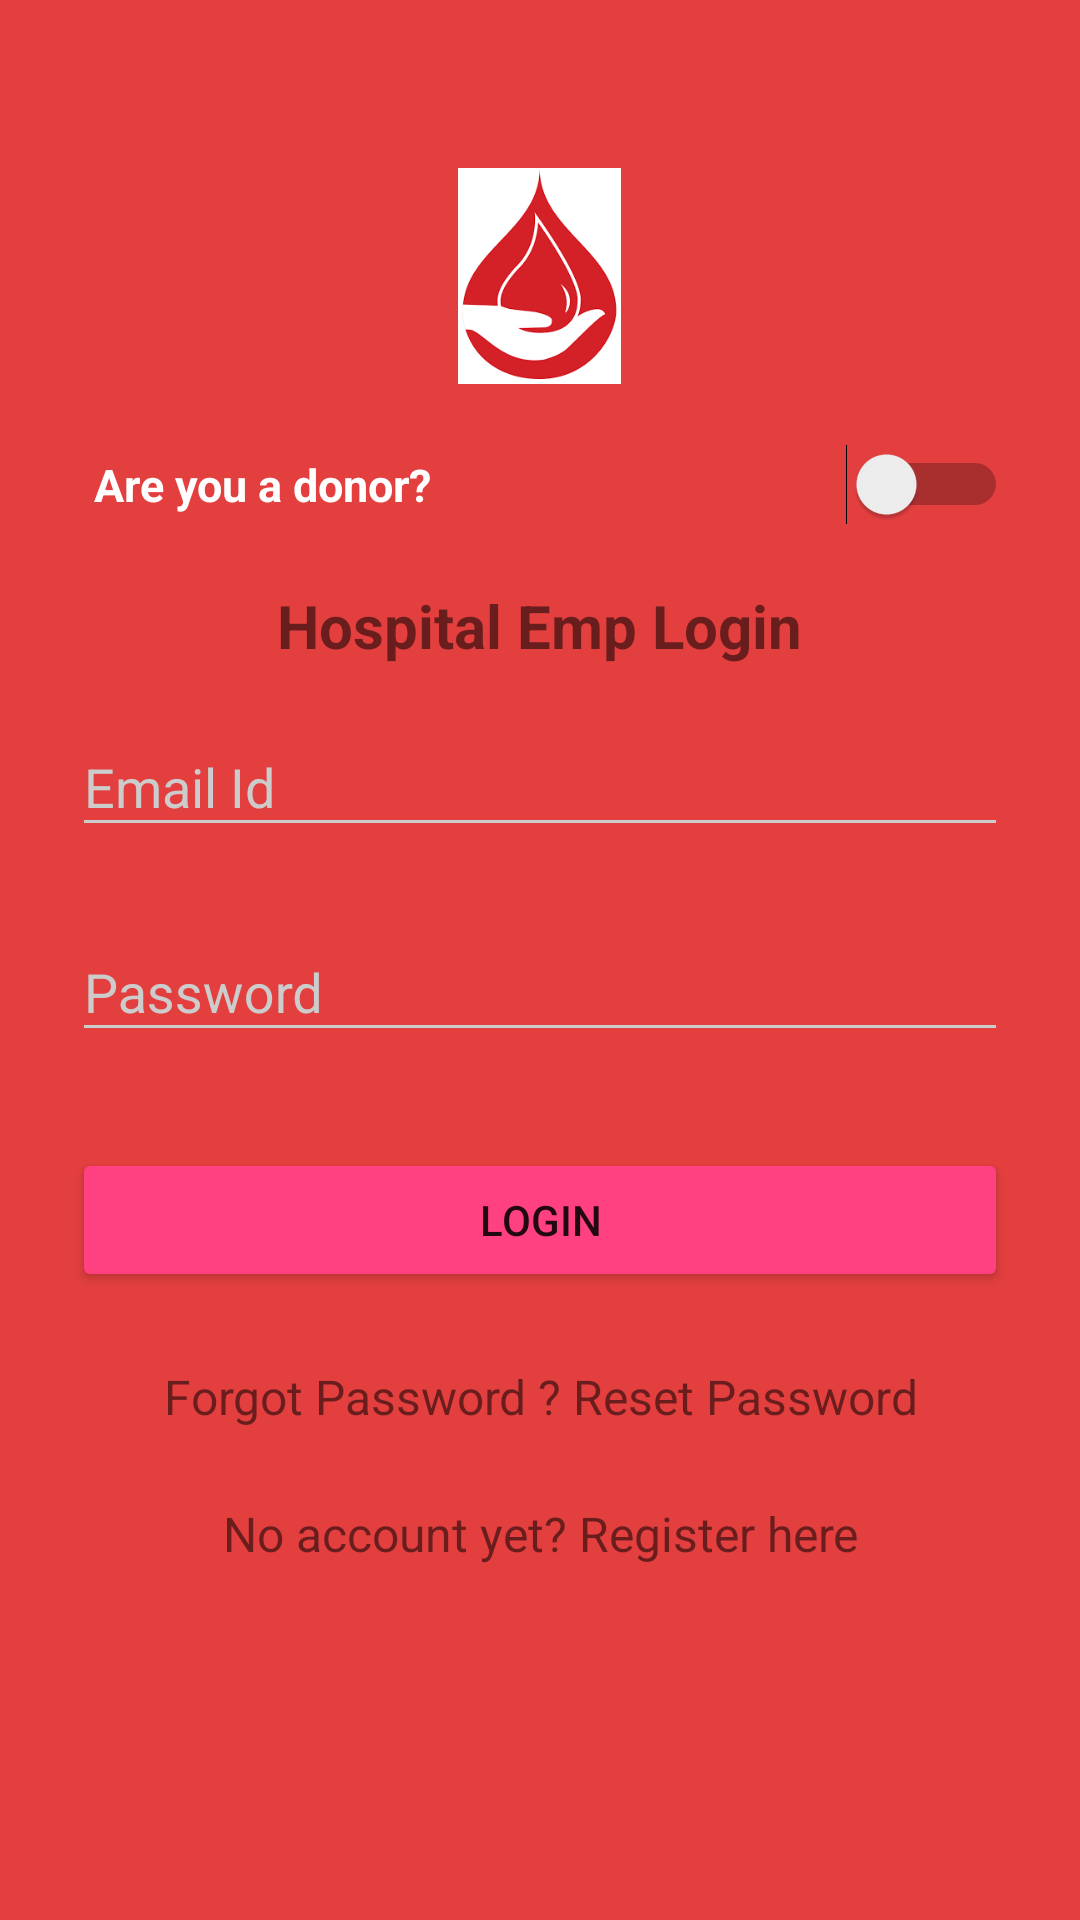

Where to tap for icons on this 1080w x 1920h app screen, as (x=x, y=y):
blooddrop: (x=539, y=276)
